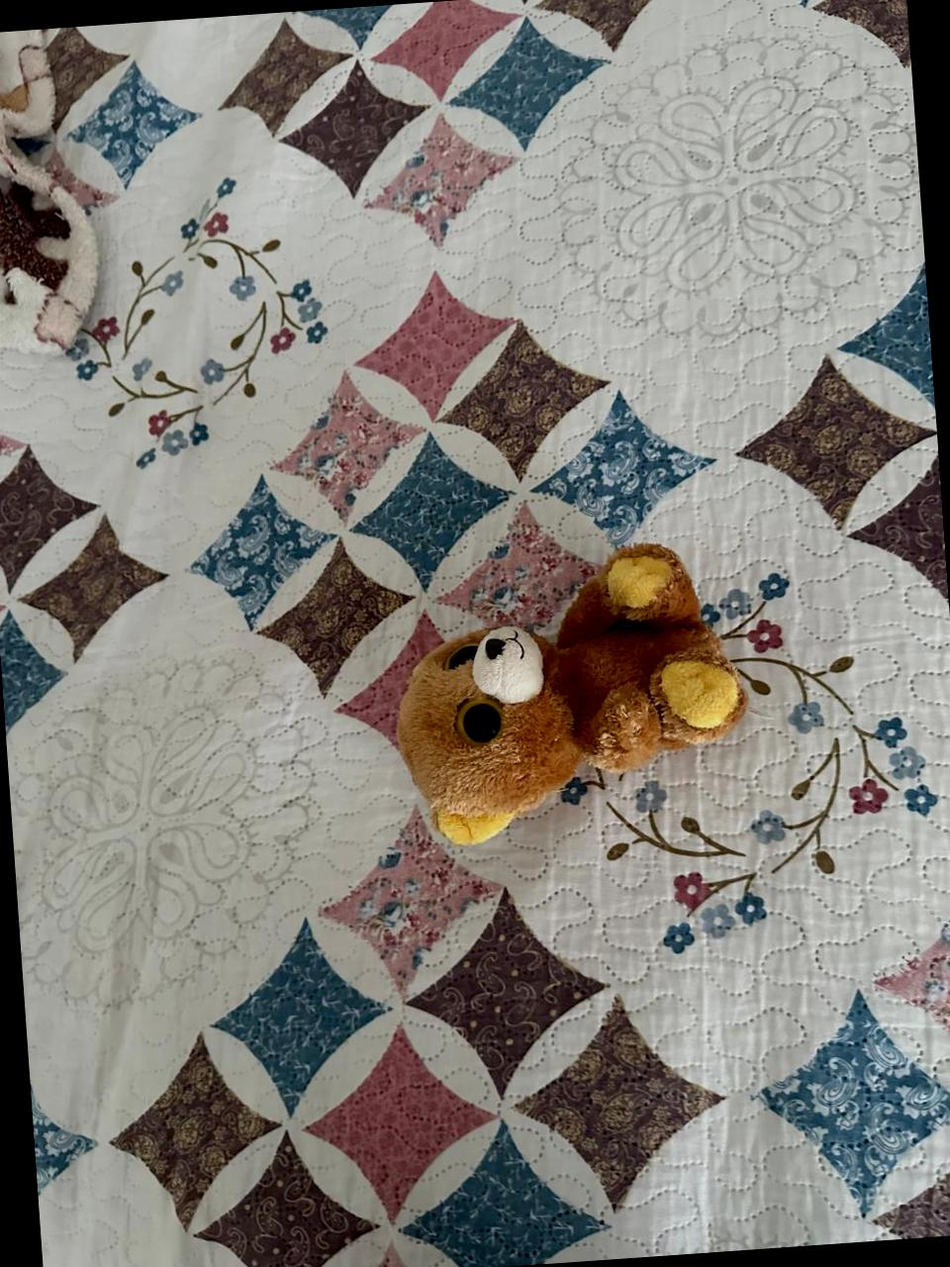peluche_sebastian: (373, 526, 761, 860)
